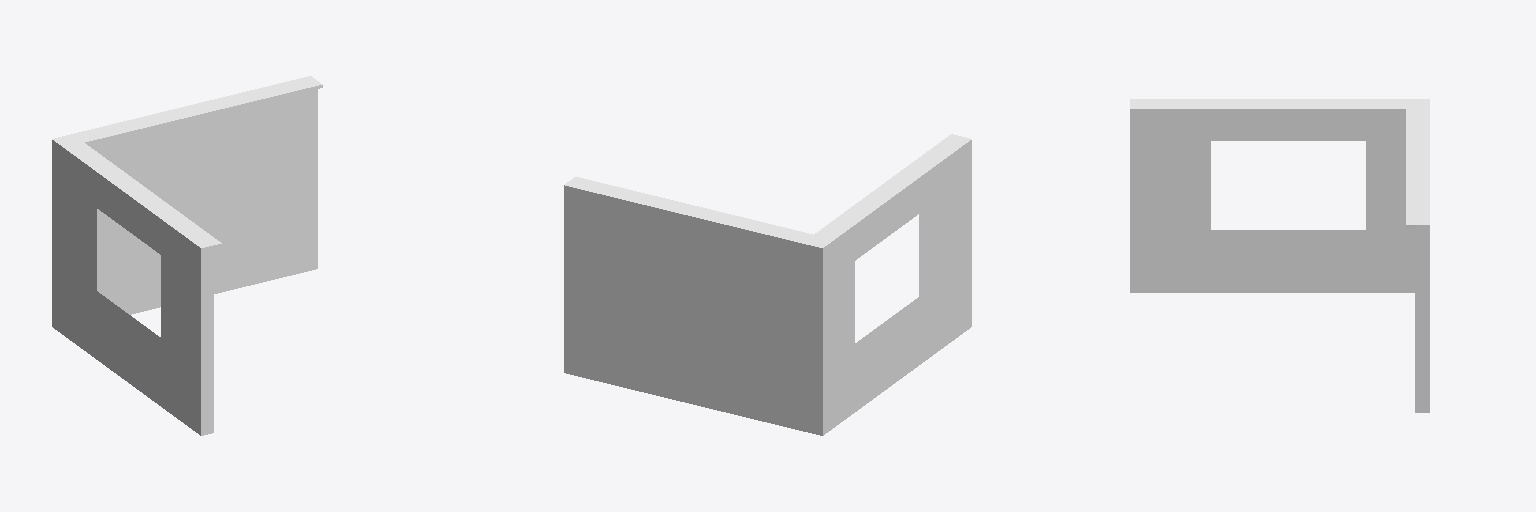
Rendered from wall1.obj.
3 views of the same model, side by side, from view 1: azimuth 30°, elevation 25°; view 2: azimuth 150°, elevation 25°; view 3: azimuth 270°, elevation 25° (orthographic).
Visible parts, largest first — view 1: Wall.001, Wall; view 2: Wall.001, Wall; view 3: Wall, Wall.001.
Boxes of the visible parts, x1,y1,x2,y2 form: Wall.001: [52, 76, 322, 331]; Wall: [59, 140, 221, 435]; Wall.001: [564, 177, 829, 435]; Wall: [810, 134, 971, 430]; Wall: [1130, 99, 1414, 292]; Wall.001: [1406, 99, 1429, 412].
Bounding box in the file's own units: 2 × 1.38 × 2.